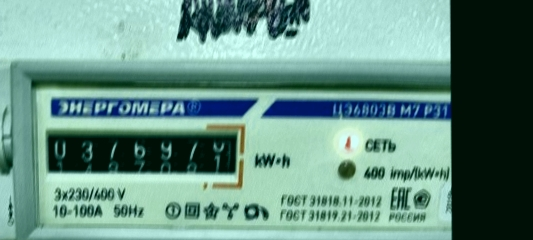0: (50, 136, 64, 158)
1: (208, 152, 220, 172)
3: (77, 139, 92, 161)
6: (129, 134, 144, 158)
7: (102, 136, 117, 159), (183, 137, 197, 160)
9: (155, 136, 170, 159)
screen: (34, 118, 246, 192)
